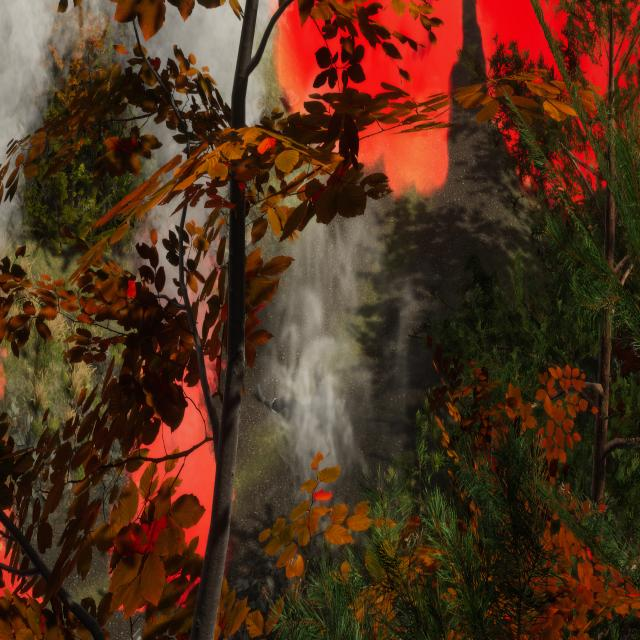Human: (256, 354, 342, 454)
